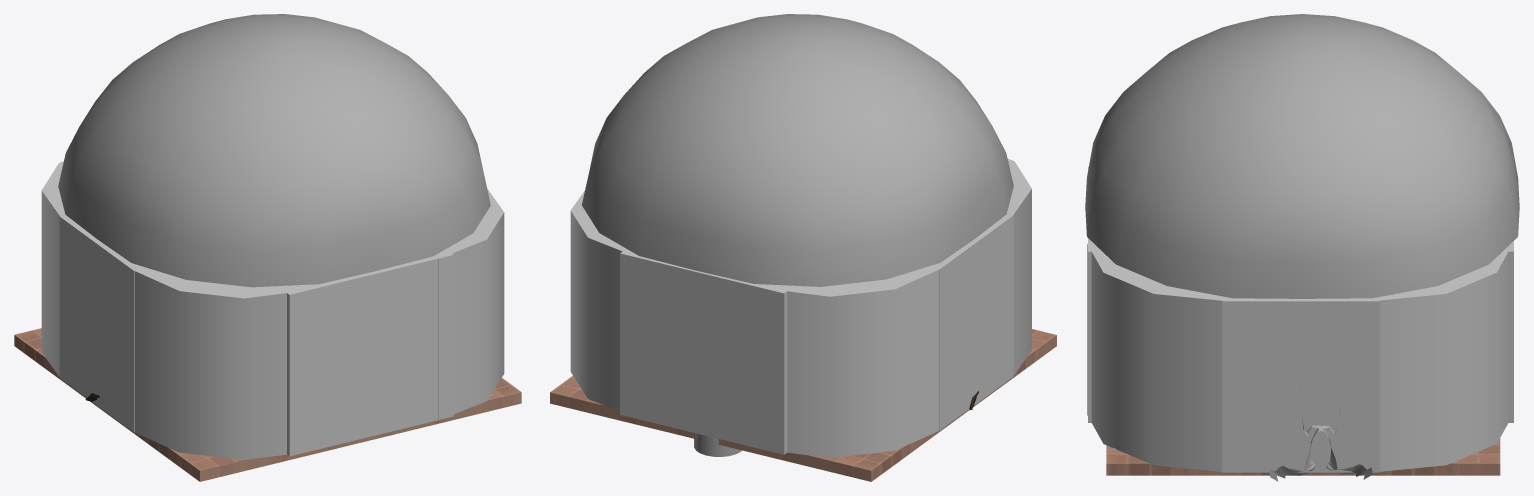
Rendered from location_6.fbx.
3 views of the same model, side by side, from view 1: azimuth 30°, elevation 25°; view 2: azimuth 150°, elevation 25°; view 3: azimuth 270°, elevation 25° (orthographic). The views are drawn at different scales.
Parts seen in each view (by area): view 1: duplicated_292, SM_Wall46, SM_Curved_Wall44, SM_Wall45, SM_Curved_Wall47, SM_Curved_Wall45, SM_Floor_tiles49, extracted_438; view 2: duplicated_292, SM_Wall47, SM_Curved_Wall45, SM_Wall45, SM_Curved_Wall46, SM_Curved_Wall44, SM_Floor_tiles49, extracted_440, polySurface425, SM_Floor_tiles48; view 3: duplicated_292, SM_Wall48, SM_Curved_Wall47, SM_Curved_Wall46, extracted_440, extracted_438, SM_Wall47, SM_Wall46, mirrored_x_71, mirrored_x_72.
Part boxes in pixels (<box>): duplicated_292: <box>58,14,490,287</box>; SM_Wall46: <box>278,253,453,456</box>; SM_Curved_Wall44: <box>134,268,286,459</box>; SM_Wall45: <box>59,215,146,432</box>; SM_Curved_Wall47: <box>434,189,504,420</box>; SM_Curved_Wall45: <box>41,161,65,376</box>; SM_Floor_tiles49: <box>14,328,307,481</box>; extracted_438: <box>414,378,521,429</box>; duplicated_292: <box>582,14,1013,286</box>; SM_Wall47: <box>620,251,794,454</box>; SM_Curved_Wall45: <box>767,267,938,457</box>; SM_Wall45: <box>927,214,1013,430</box>; SM_Curved_Wall46: <box>570,190,637,411</box>; SM_Curved_Wall44: <box>1007,159,1031,375</box>; SM_Floor_tiles49: <box>764,329,1056,481</box>; extracted_440: <box>550,376,657,429</box>; polySurface425: <box>694,434,741,456</box>; SM_Floor_tiles48: <box>657,424,764,455</box>; duplicated_292: <box>1085,14,1519,298</box>; SM_Wall48: <box>1222,296,1379,472</box>; SM_Curved_Wall47: <box>1087,243,1222,471</box>; SM_Curved_Wall46: <box>1380,243,1512,471</box>; extracted_440: <box>1371,438,1500,475</box>; extracted_438: <box>1106,445,1237,475</box>; SM_Wall47: <box>1508,241,1513,422</box>; SM_Wall46: <box>1088,166,1093,422</box>; mirrored_x_71: <box>1249,373,1372,479</box>; mirrored_x_72: <box>1270,294,1392,481</box>.
Bounding box in the file's own units: 1713 × 1557 × 1654.
